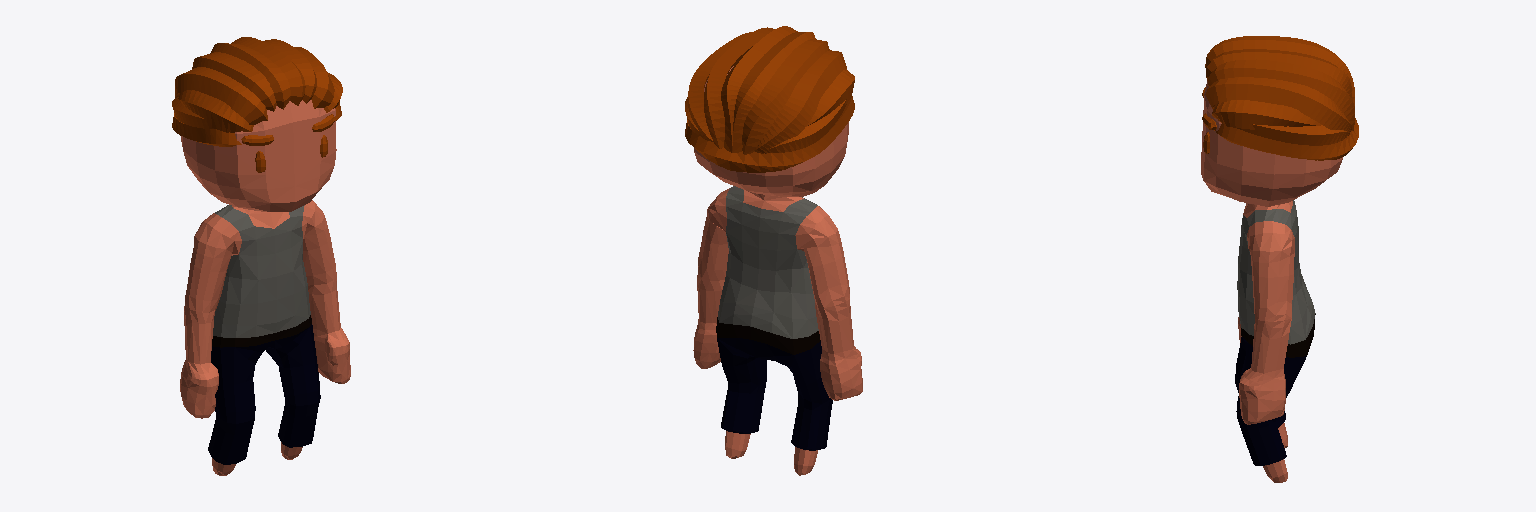
File: Rollo.obj
3 views of the same model, side by side, from view 1: azimuth 30°, elevation 25°; view 2: azimuth 150°, elevation 25°; view 3: azimuth 270°, elevation 25° (orthographic).
Visible parts, largest first — view 1: Body; view 2: Body; view 3: Body.
Part boxes in pixels (x1,y1,x2,y2): Body: (172,37,350,475); Body: (685,26,862,475); Body: (1201,36,1358,482).
Bounding box in the file's own units: 1.29 × 3.17 × 1.09.